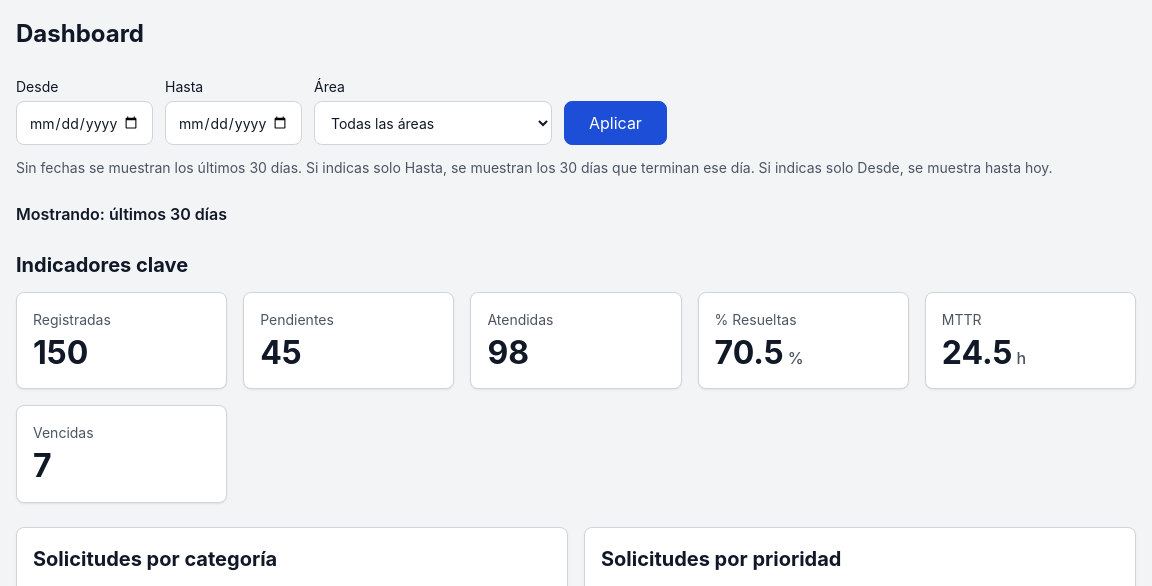
Test: DashboardPage › visibilidad por rol (RN-16, DASH-15) › [DASH-15 CA-4] la línea "Mostrando" incluye el área aplicada, no la elegida sin aplicar
Select "Infraestructura" in the dropdown labelled "Área" at (433, 123), box [314,101,552,145]
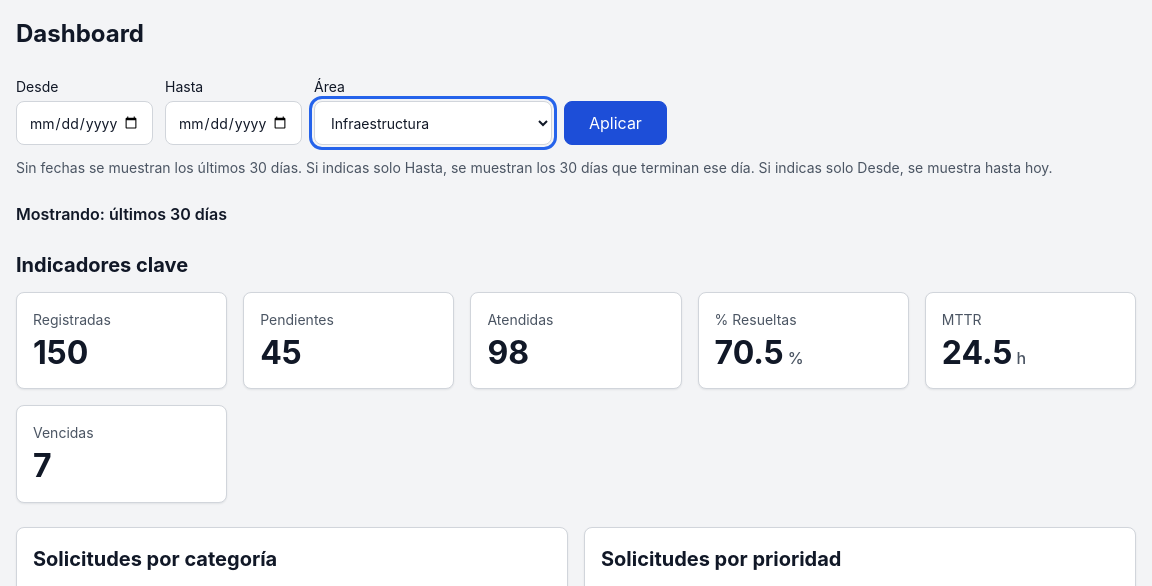
Expected: the text "Mostrando: últimos 30 días" is shown, [16,204,227,224]
Click the button "Aplicar" at (615, 123), box [564,101,667,145]
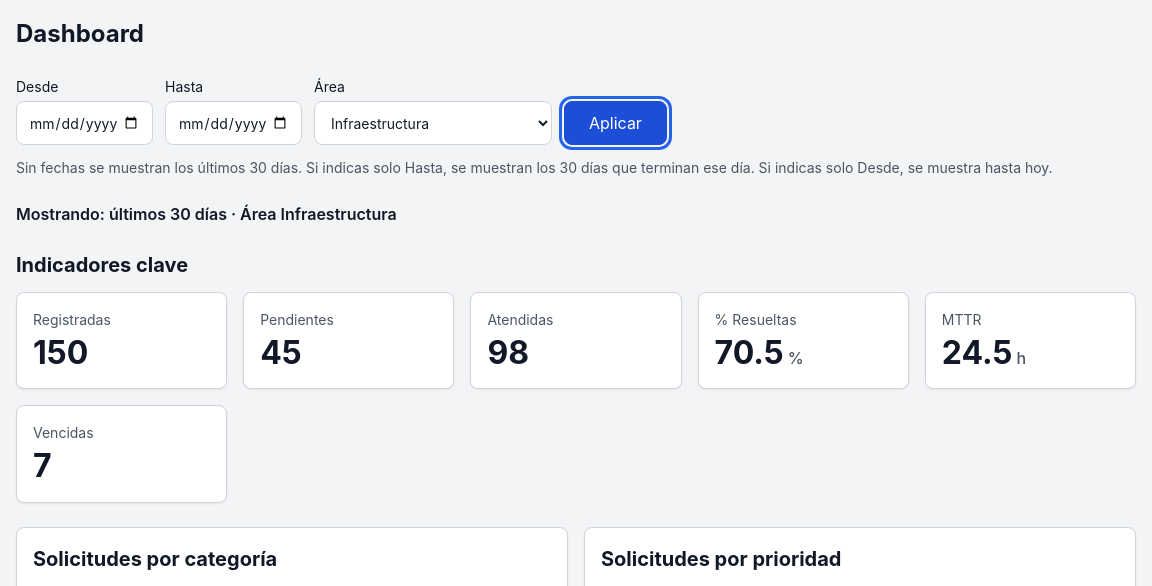
Expected: the text "Mostrando: últimos 30 días · Área Infraestructura" is shown, [16,204,397,224]
